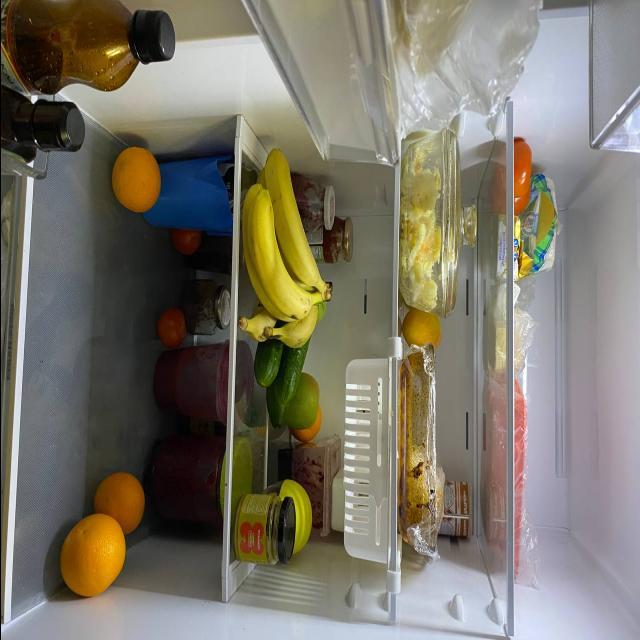Apple: (406, 306, 444, 358), (289, 370, 319, 430), (312, 294, 331, 324)
Banana: (242, 150, 331, 350)
Cucumber: (277, 338, 308, 404), (254, 338, 282, 392), (268, 386, 288, 428)
Orange: (58, 514, 125, 602), (109, 147, 160, 210), (95, 470, 144, 530), (293, 409, 321, 443)
Tomato: (505, 134, 533, 192), (158, 304, 190, 354), (172, 224, 201, 254), (511, 194, 529, 214)
